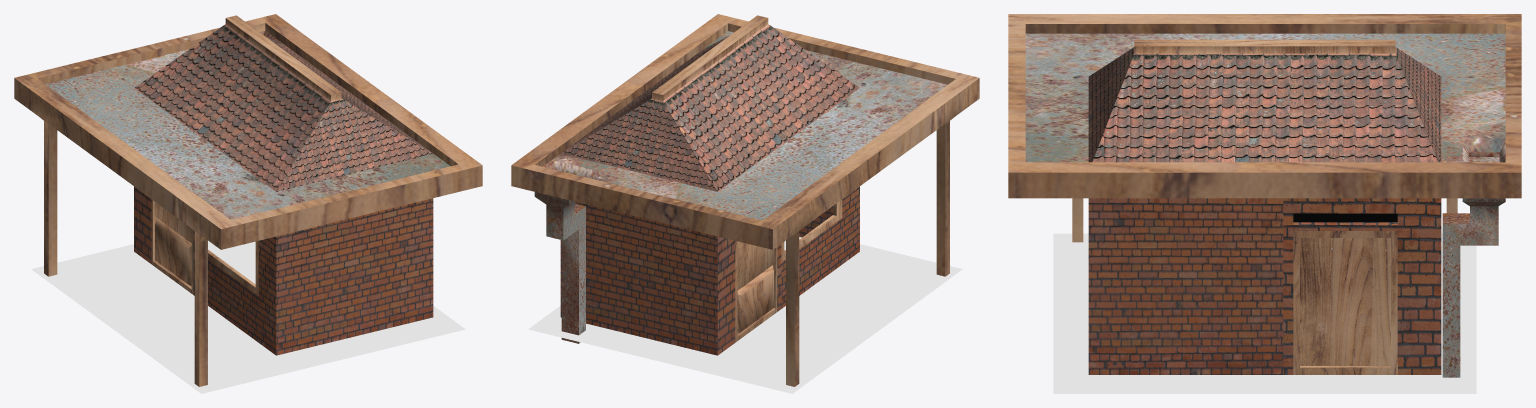
Rendered from warung.glb.
3 renders of one model, left to right at view 1: azimuth 30°, elevation 25°; view 2: azimuth 150°, elevation 25°; view 3: azimuth 270°, elevation 25°, orthographic. The views are drawn at different scales.
Visible parts, largest first — view 1: Object_2, Plane, Object_2.001; view 2: Object_2, Plane, Object_2.001; view 3: Object_2, Plane.
Boxes of the visible parts, x1=… form: Object_2: x1=14, y1=14, x2=482, y2=386; Plane: x1=31, y1=240, x2=465, y2=393; Object_2.001: x1=44, y1=125, x2=48, y2=276; Object_2: x1=511, y1=14, x2=979, y2=386; Plane: x1=528, y1=237, x2=962, y2=393; Object_2.001: x1=795, y1=234, x2=799, y2=386; Object_2: x1=1008, y1=14, x2=1521, y2=377; Plane: x1=1053, y1=233, x2=1476, y2=393.
Bounding box in the file's own units: 407 × 359 × 551.
2 materials, 1 textured.
